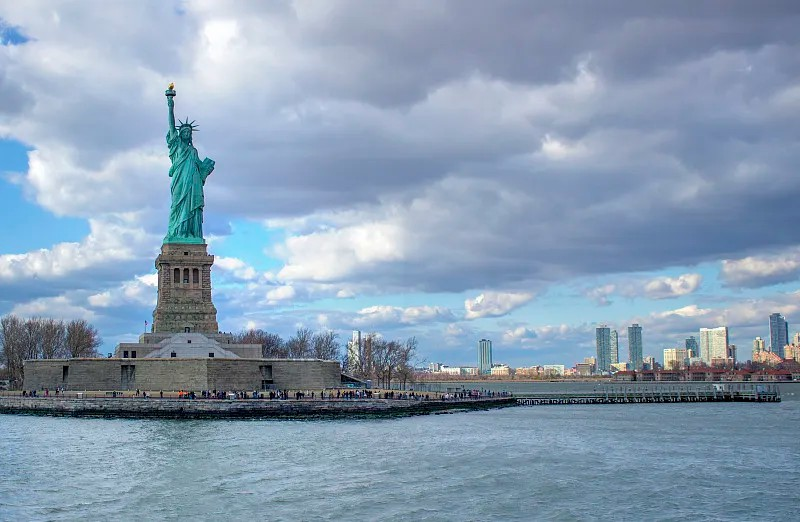SL: (151, 82, 219, 334)
